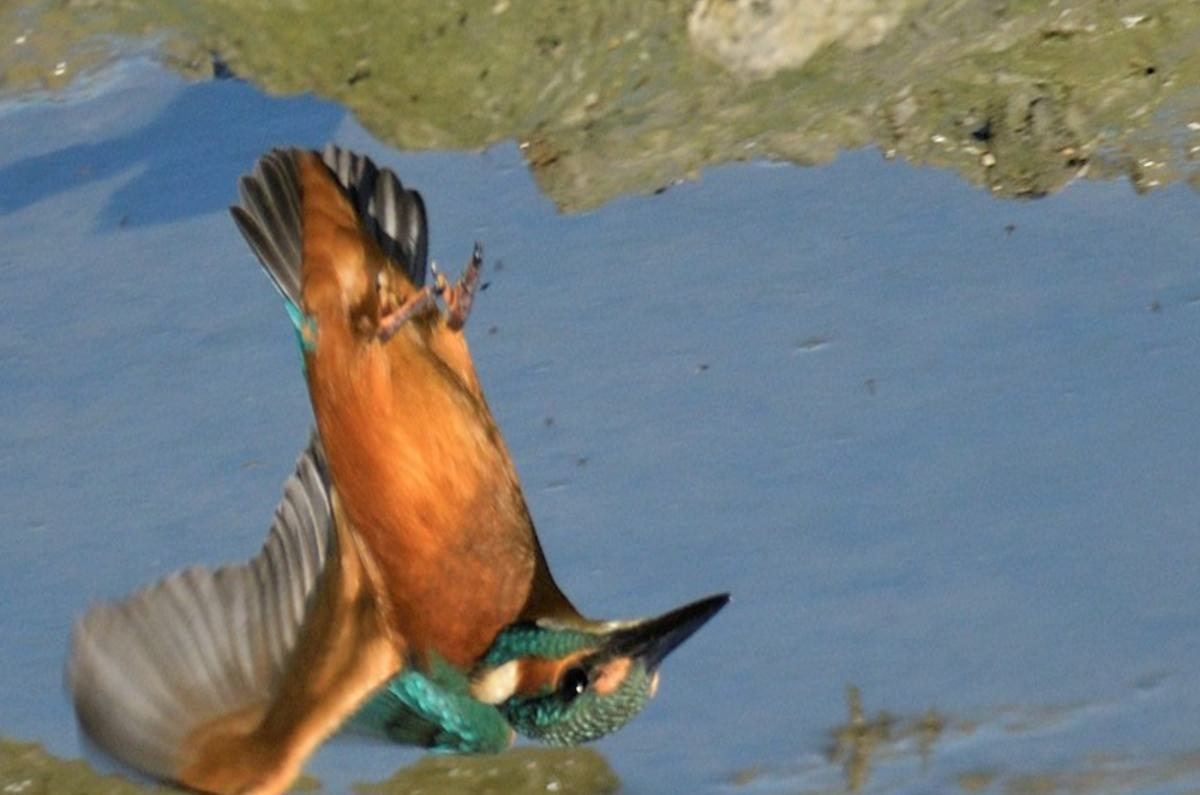kingfisher: (166, 159, 724, 764)
